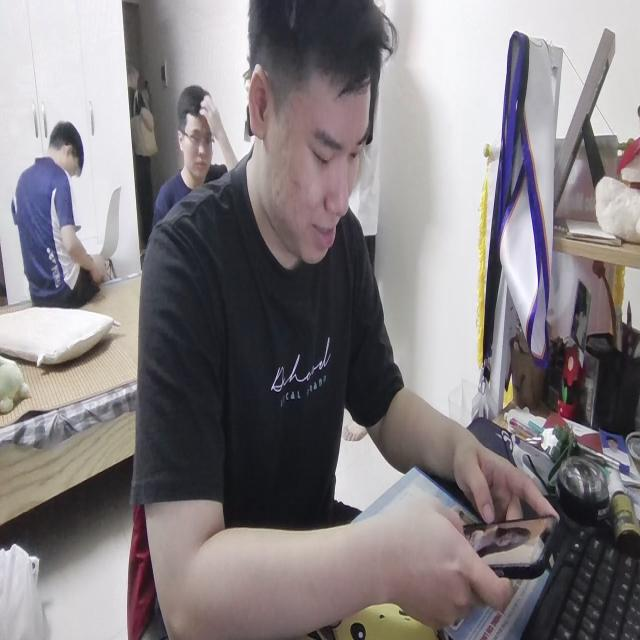extra_person: (16, 125, 107, 303), (153, 78, 239, 217)
phone: (454, 493, 555, 584)
student: (138, 0, 558, 640)
